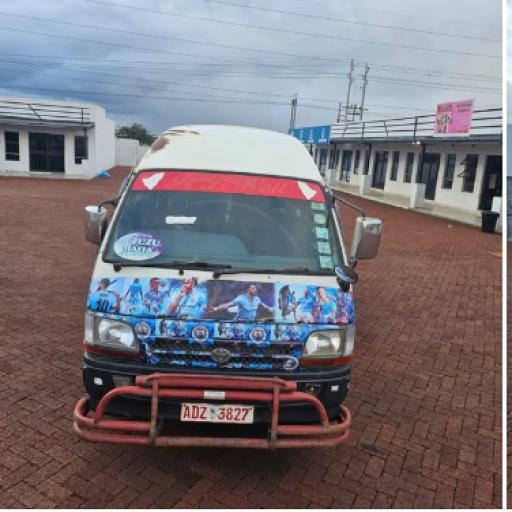number-plates: (183, 400, 256, 425)
